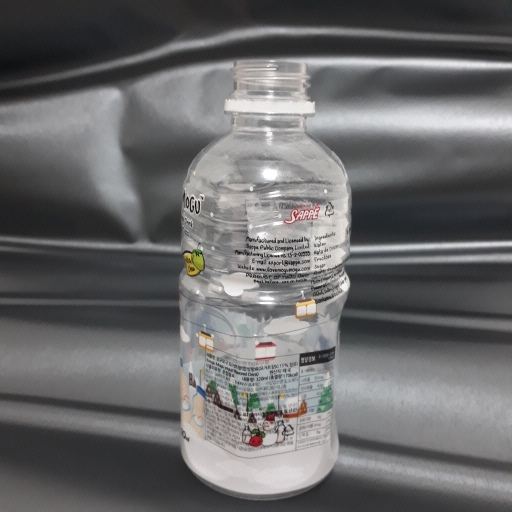Plastic_0: (173, 58, 351, 497)
